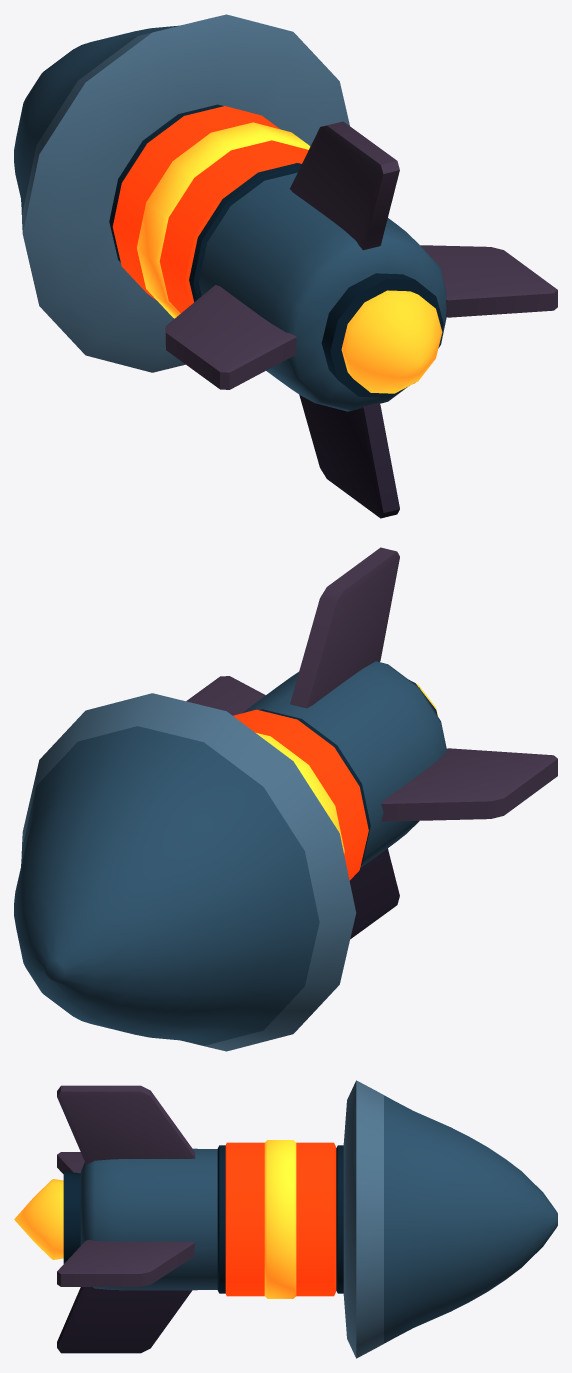
File: shot_hmissile_steel.glb
3 views of the same model, one above another, from view 1: azimuth 30°, elevation 25°; view 2: azimuth 150°, elevation 25°; view 3: azimuth 270°, elevation 25° (orthographic). The views are drawn at different scales.
Parts seen in each view (by area): view 1: hs_head0, hs_tail0, hs_band, hs_fin.001, hs_fin.002, hs_flame, hs_fin.003, hs_fin, hs_band_bright, hs_head1, hs_nozzle, hs_band_seam (+1 smaller); view 2: hs_head1, hs_head0, hs_tail0, hs_fin.001, hs_fin.002, hs_band, hs_fin.003, hs_fin, hs_band_bright, hs_band_seam; view 3: hs_head1, hs_tail0, hs_band, hs_head0, hs_fin.001, hs_fin.003, hs_band_bright, hs_fin, hs_flame, hs_nozzle, hs_band_seam, hs_band_seam2 (+1 smaller).
Boxes of the visible parts, x1,y1,x2,y2 form: hs_head0: [22, 14, 349, 372]; hs_tail0: [199, 172, 446, 411]; hs_band: [112, 106, 308, 313]; hs_fin.001: [290, 121, 399, 250]; hs_fin.002: [165, 285, 296, 389]; hs_flame: [341, 290, 442, 393]; hs_fin.003: [299, 395, 399, 518]; hs_fin: [420, 245, 557, 317]; hs_band_bright: [137, 122, 310, 318]; hs_head1: [14, 25, 178, 214]; hs_nozzle: [321, 273, 443, 397]; hs_band_seam: [189, 163, 301, 302]; hs_head1: [14, 726, 319, 1045]; hs_head0: [22, 693, 356, 1051]; hs_tail0: [242, 661, 446, 867]; hs_fin.001: [290, 547, 399, 708]; hs_fin.002: [381, 748, 557, 821]; hs_band: [233, 709, 368, 880]; hs_fin.003: [349, 848, 399, 938]; hs_fin: [186, 676, 265, 715]; hs_band_bright: [255, 732, 344, 854]; hs_band_seam: [259, 709, 370, 864]; hs_head1: [384, 1095, 557, 1343]; hs_tail0: [80, 1148, 217, 1290]; hs_band: [225, 1142, 336, 1296]; hs_head0: [343, 1080, 383, 1358]; hs_fin.001: [57, 1085, 195, 1164]; hs_fin.003: [57, 1287, 192, 1353]; hs_band_bright: [264, 1140, 296, 1298]; hs_fin: [57, 1240, 195, 1286]; hs_flame: [14, 1179, 63, 1259]; hs_nozzle: [63, 1171, 80, 1263]; hs_band_seam: [217, 1145, 225, 1293]; hs_band_seam2: [336, 1145, 343, 1293].
Bounding box in the file's own units: 7.8 × 7.8 × 14.7.
